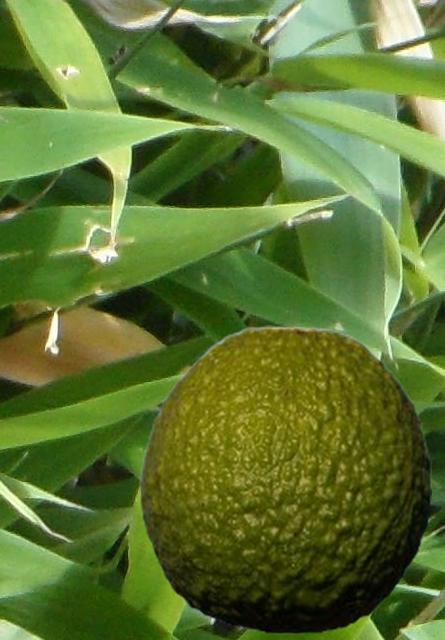avocado: (139, 325, 430, 633)
